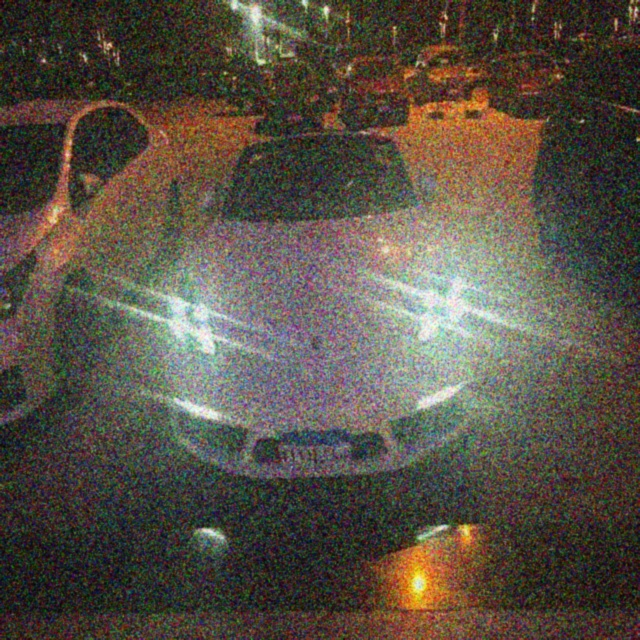License Plate: (275, 425, 354, 472)
